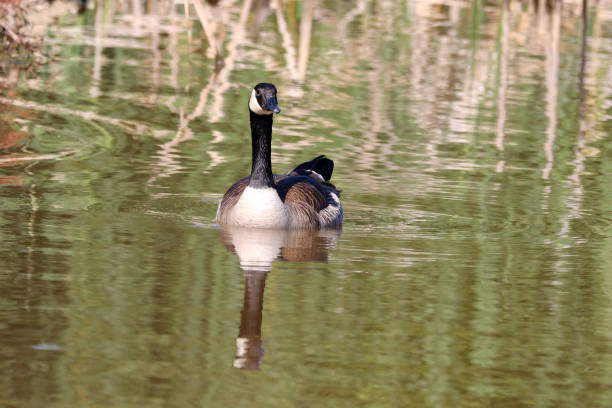goose: (214, 80, 345, 234)
